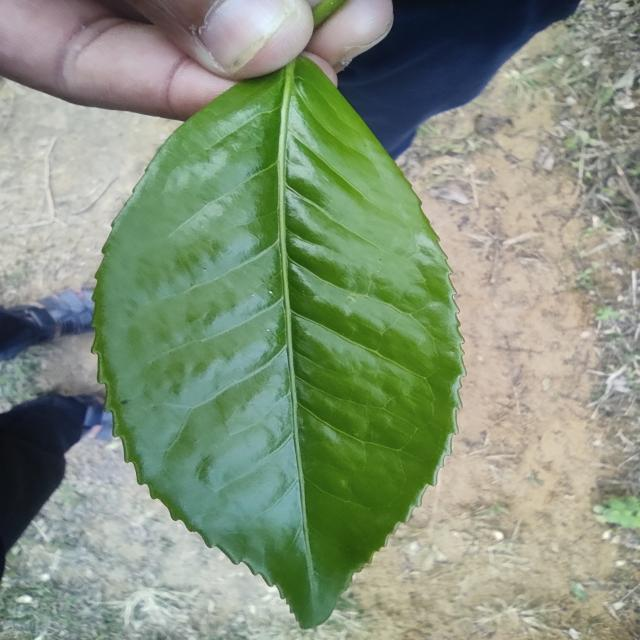Category C 4-7 days: (54, 40, 492, 634)
